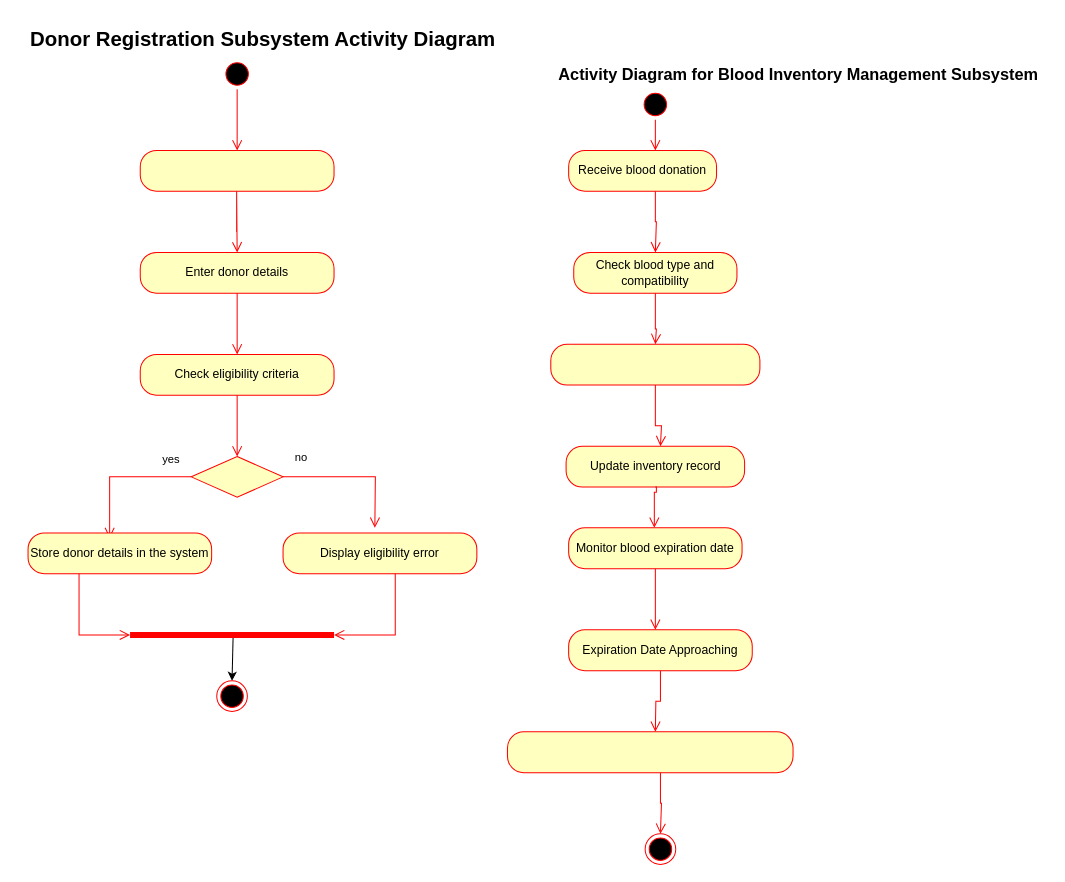
This 1065x882 diagram has some shape labels left out. The shapes that lost their labels are listed below. From the top down, each one's box as (x1, y1, x2, y2) in pixels, then its label:
(139, 149, 334, 191): Display registration form
(550, 343, 760, 385): Store blood in the appropriate storage unit
(190, 455, 283, 497): Eligible
(506, 731, 793, 773): Send reminder for usage or disposal
